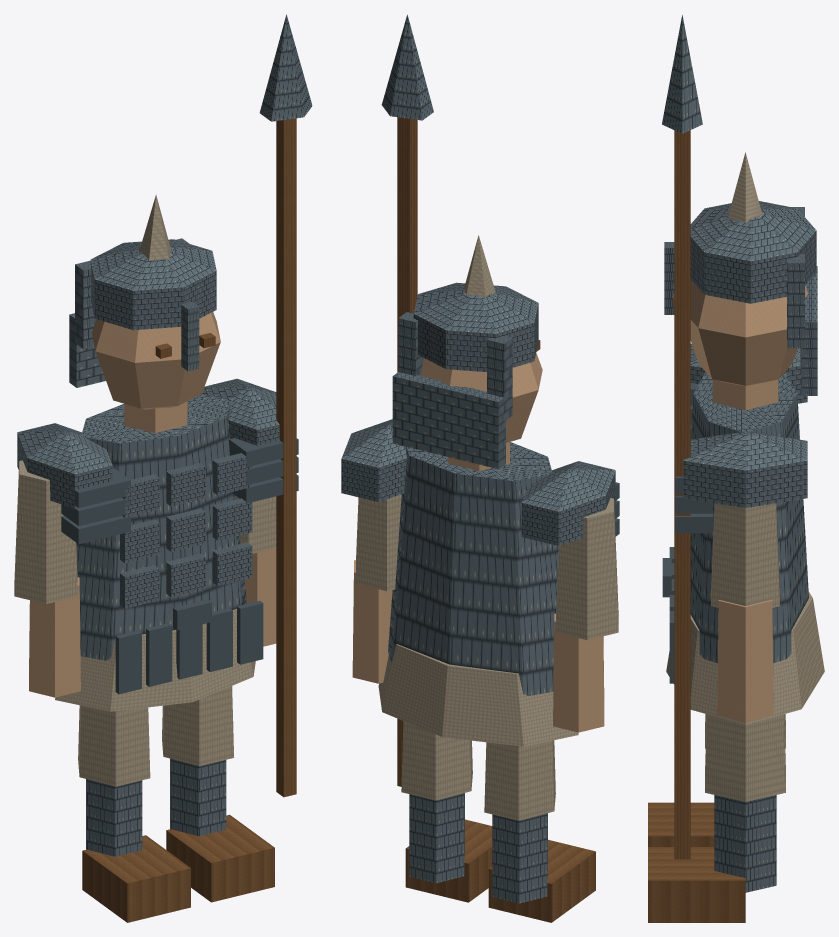
Rendered from unit-SPEAR-lod0.glb.
3 views of the same model, side by side, from view 1: azimuth 30°, elevation 25°; view 2: azimuth 150°, elevation 25°; view 3: azimuth 270°, elevation 25° (orthographic). The views are drawn at different scales.
Bounding box in the file's own units: 0.187 × 0.565 × 0.098.
Materials: 1 (1 with a texture image).
